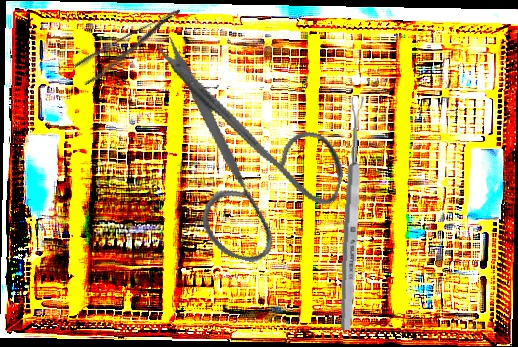Dressing Forceps: (72, 6, 191, 87)
Iris Scissors: (105, 33, 367, 281)
Surgical Spoon: (337, 96, 367, 331)
